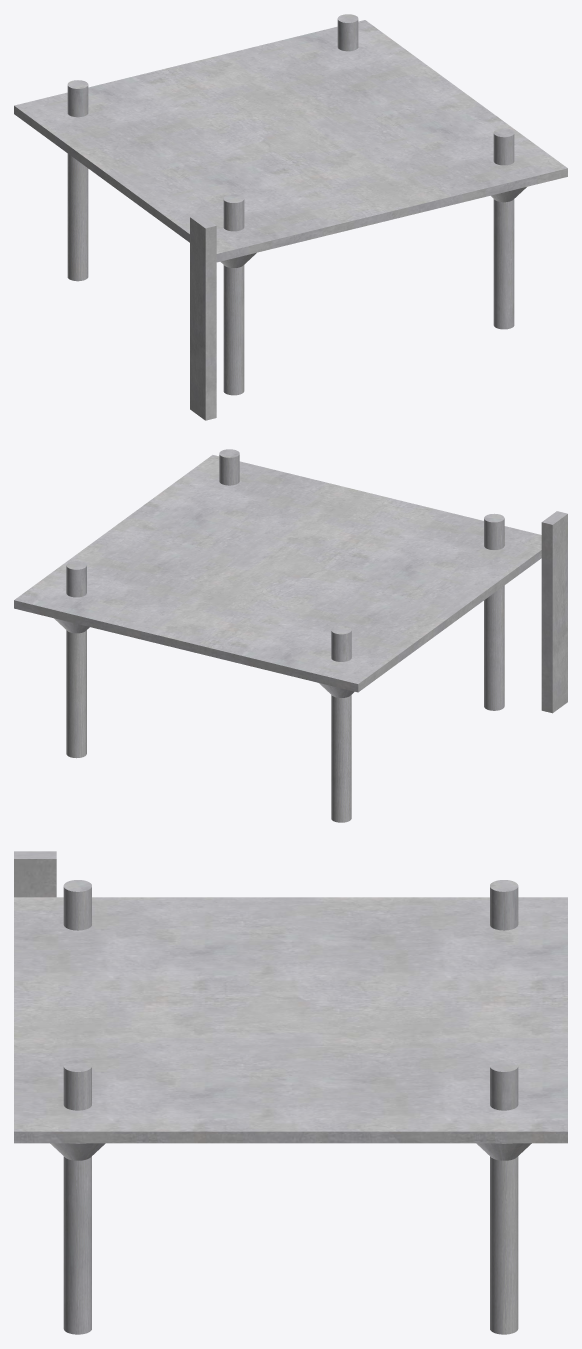
The model's file is flat-slab.glb.
3 views of the same model, one above another, from view 1: azimuth 30°, elevation 25°; view 2: azimuth 150°, elevation 25°; view 3: azimuth 270°, elevation 25° (orthographic). The views are drawn at different scales.
Visible parts, largest first — view 1: 无梁楼板; view 2: 无梁楼板; view 3: 无梁楼板.
Part boxes in pixels (bbox=[...]): 无梁楼板: bbox=[14, 14, 567, 420]; 无梁楼板: bbox=[14, 449, 567, 822]; 无梁楼板: bbox=[14, 851, 567, 1334].
Size of the model in its own units: 8.05 by 4.08 by 7.8.
Materials: 1 (1 with a texture image).
